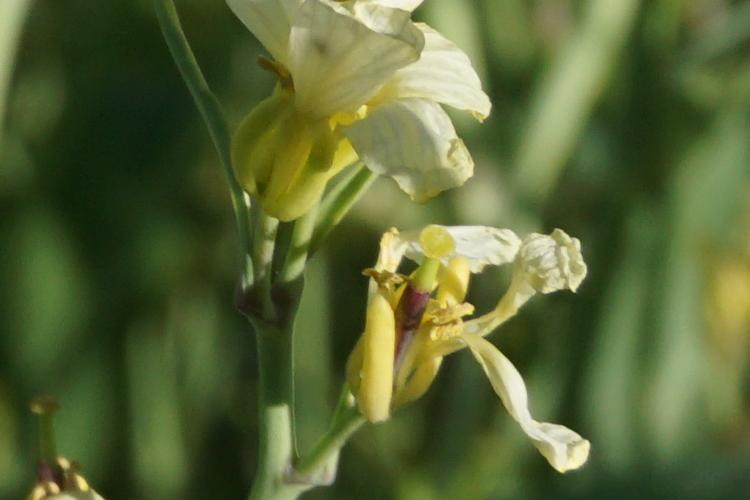white: (362, 223, 593, 456), (227, 6, 481, 211)
